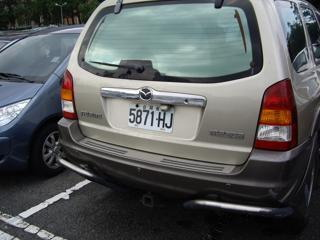plate: (127, 99, 175, 133)
